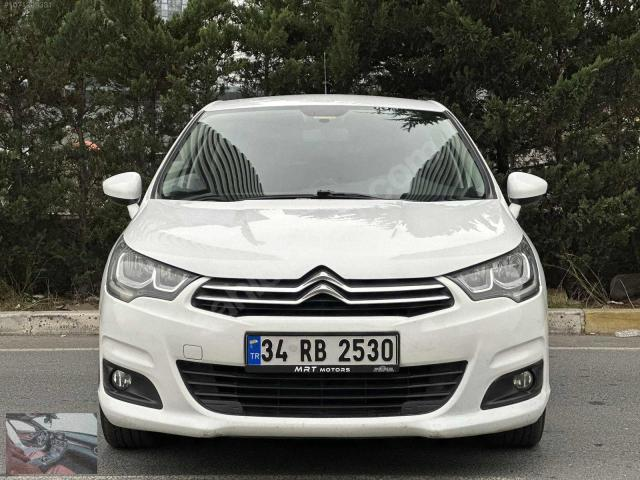plaka: (246, 334, 399, 372)
